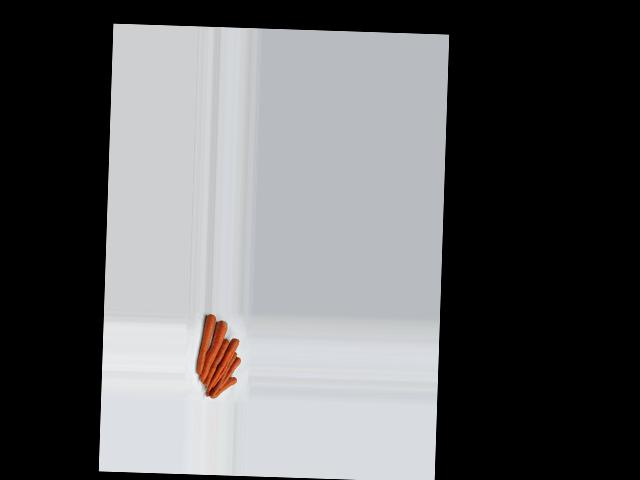carrot: (207, 378, 241, 401)
